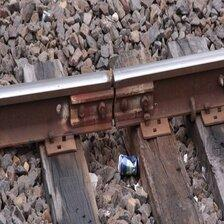railway-gap: (79, 62, 147, 134)
